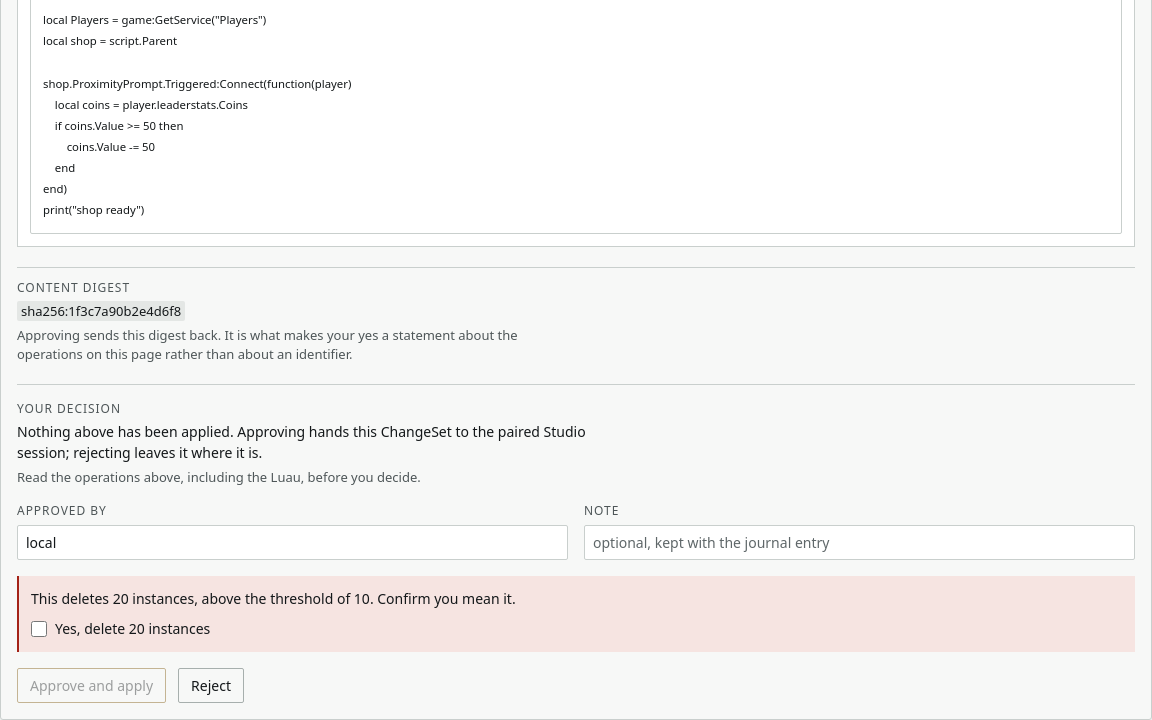
Scenario: approval is withheld when the page cannot vouch for the diff › requires the bulk-delete confirmation the protocol asks for
(page scrolled)
Check: the button "Approve and apply" is disabled, box [17,668,166,703]
Click the checkbox: (39,629) [31,621,47,637]
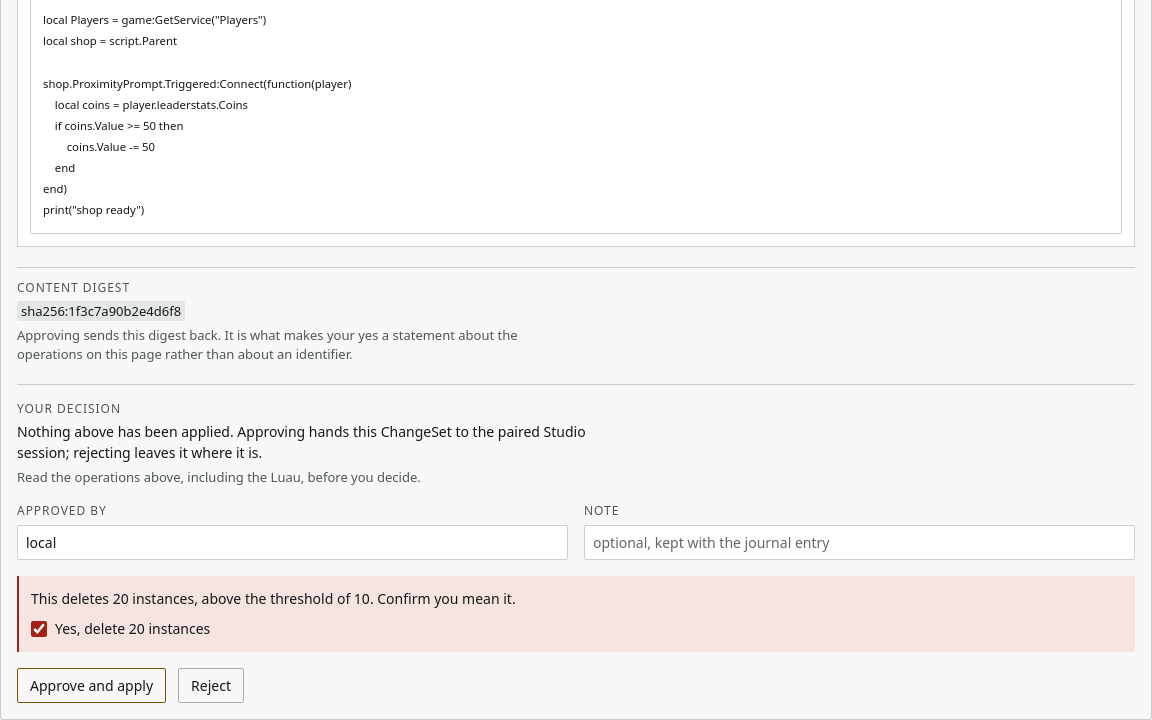
Check: the button "Approve and apply" is enabled, box [17,668,166,703]
